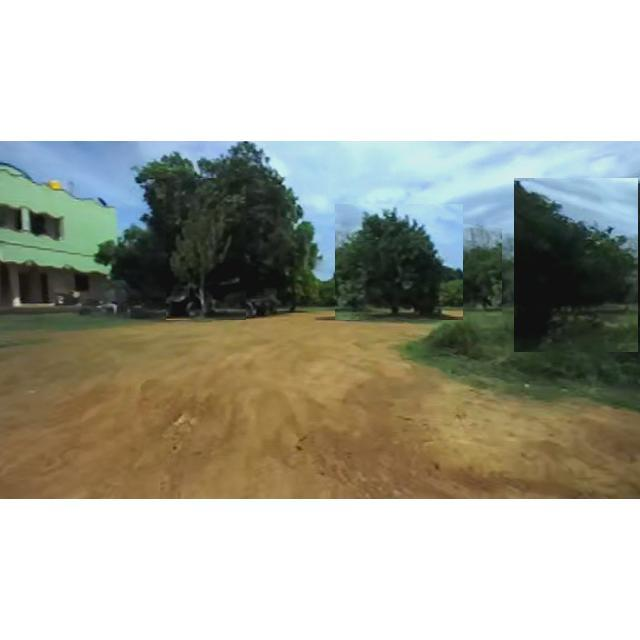direk: (92, 142, 308, 318), (514, 178, 638, 352), (335, 204, 463, 320), (166, 178, 246, 320), (268, 220, 318, 320), (450, 228, 502, 316)
